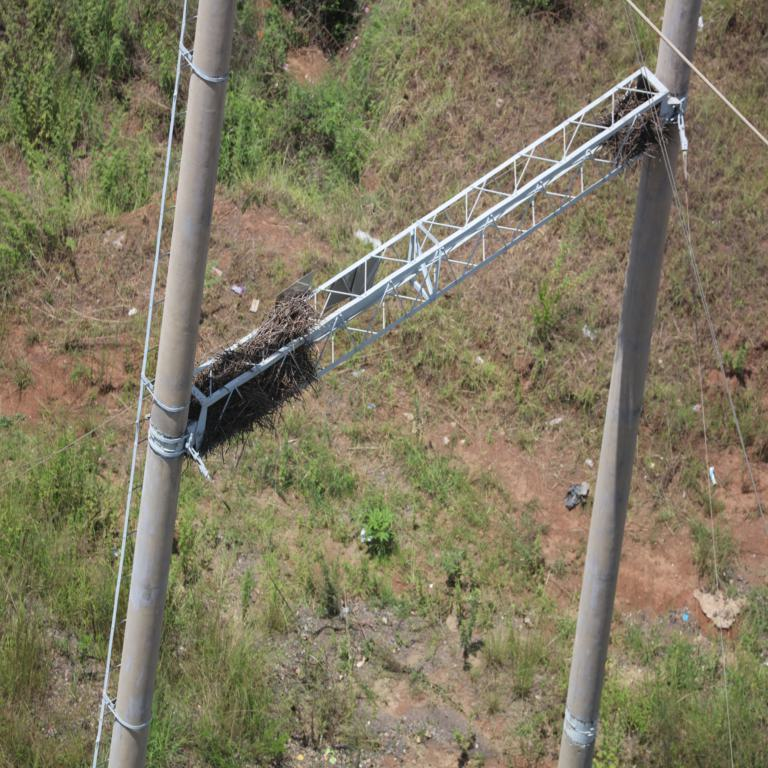nest: (196, 296, 324, 442)
